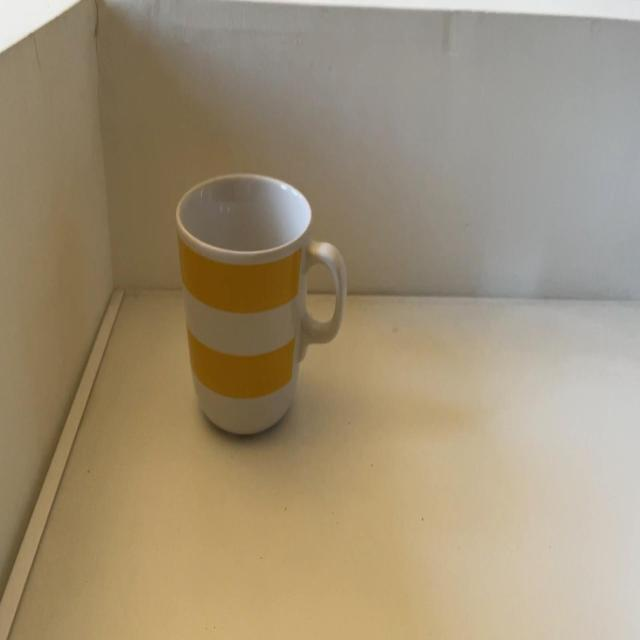cup: (176, 174, 351, 436)
